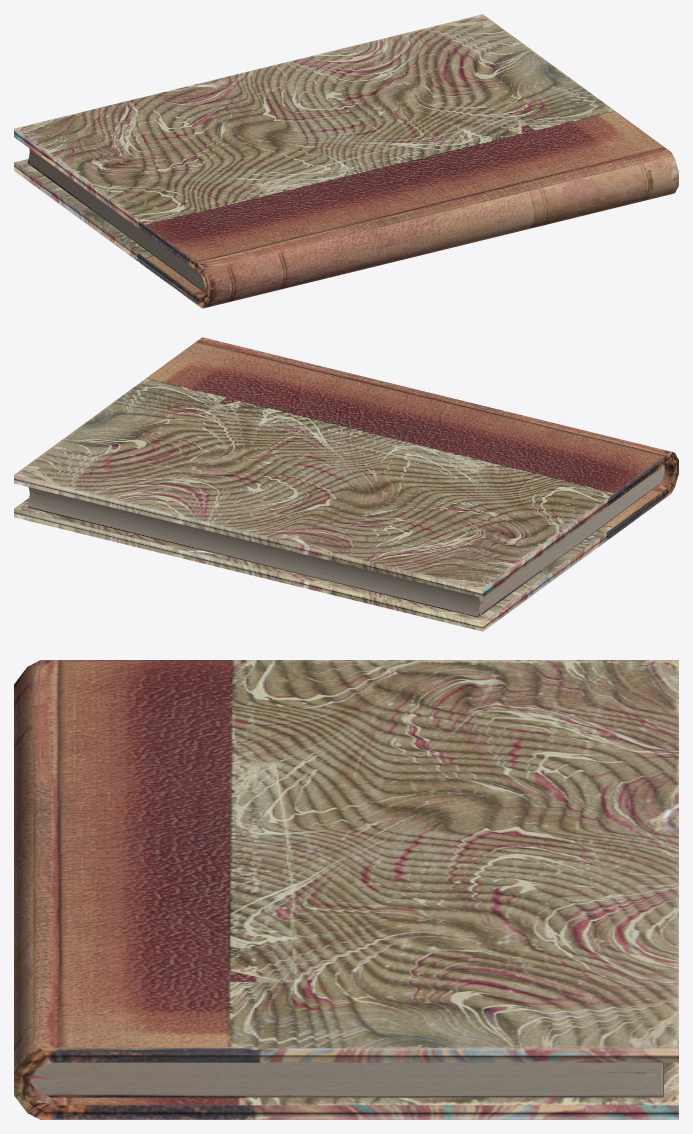
File: Book01.FBX
The picture shows the model from 3 angles, top to bottom: view 1: azimuth 30°, elevation 25°; view 2: azimuth 150°, elevation 25°; view 3: azimuth 270°, elevation 25°; orthographic projection. The views are drawn at different scales.
Visible parts, largest first — view 1: Book01; view 2: Book01; view 3: Book01.
Boxes of the visible parts, x1,y1,x2,y2 form: Book01: [14, 14, 678, 308]; Book01: [14, 337, 678, 631]; Book01: [14, 660, 678, 1119].
Bounding box in the file's own units: 11.42 × 8.27 × 0.984.
